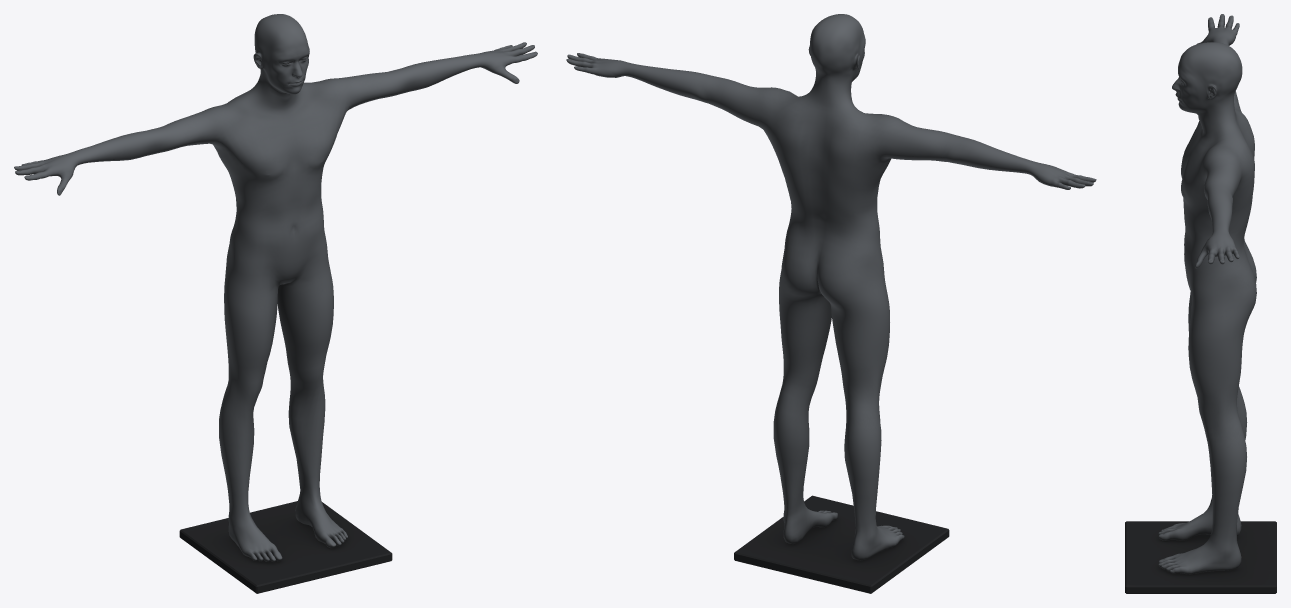
Rendered from Mannequin.fbx.
The picture shows the model from 3 angles, left to right: view 1: azimuth 30°, elevation 25°; view 2: azimuth 150°, elevation 25°; view 3: azimuth 270°, elevation 25°; orthographic projection. The views are drawn at different scales.
Parts seen in each view (by area): view 1: Mannequin; view 2: Mannequin; view 3: Mannequin.
Boxes of the visible parts, x1,y1,x2,y2 form: Mannequin: (14, 14, 537, 593); Mannequin: (566, 14, 1096, 593); Mannequin: (1125, 14, 1276, 593).
Bounding box in the file's own units: 185 × 180 × 47.85.
Materials: 1 (1 with a texture image).
